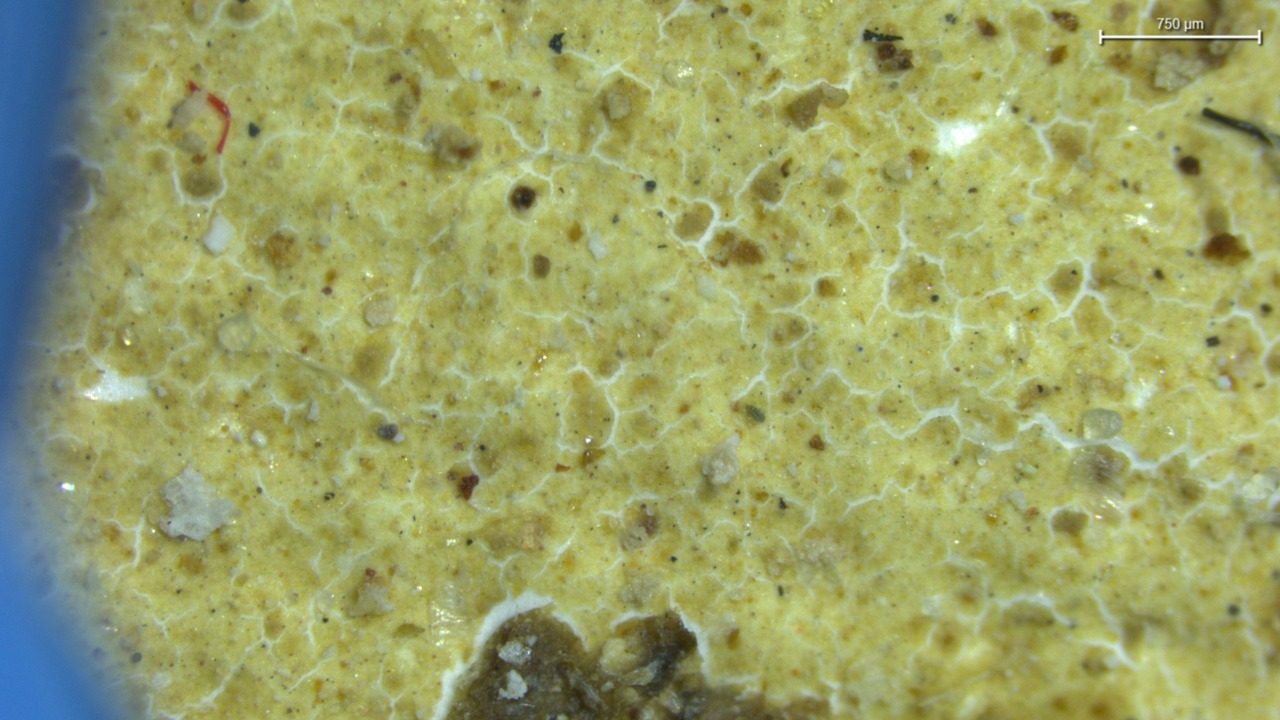microplastic_fragment: (160, 466, 235, 540), (202, 215, 236, 255)
